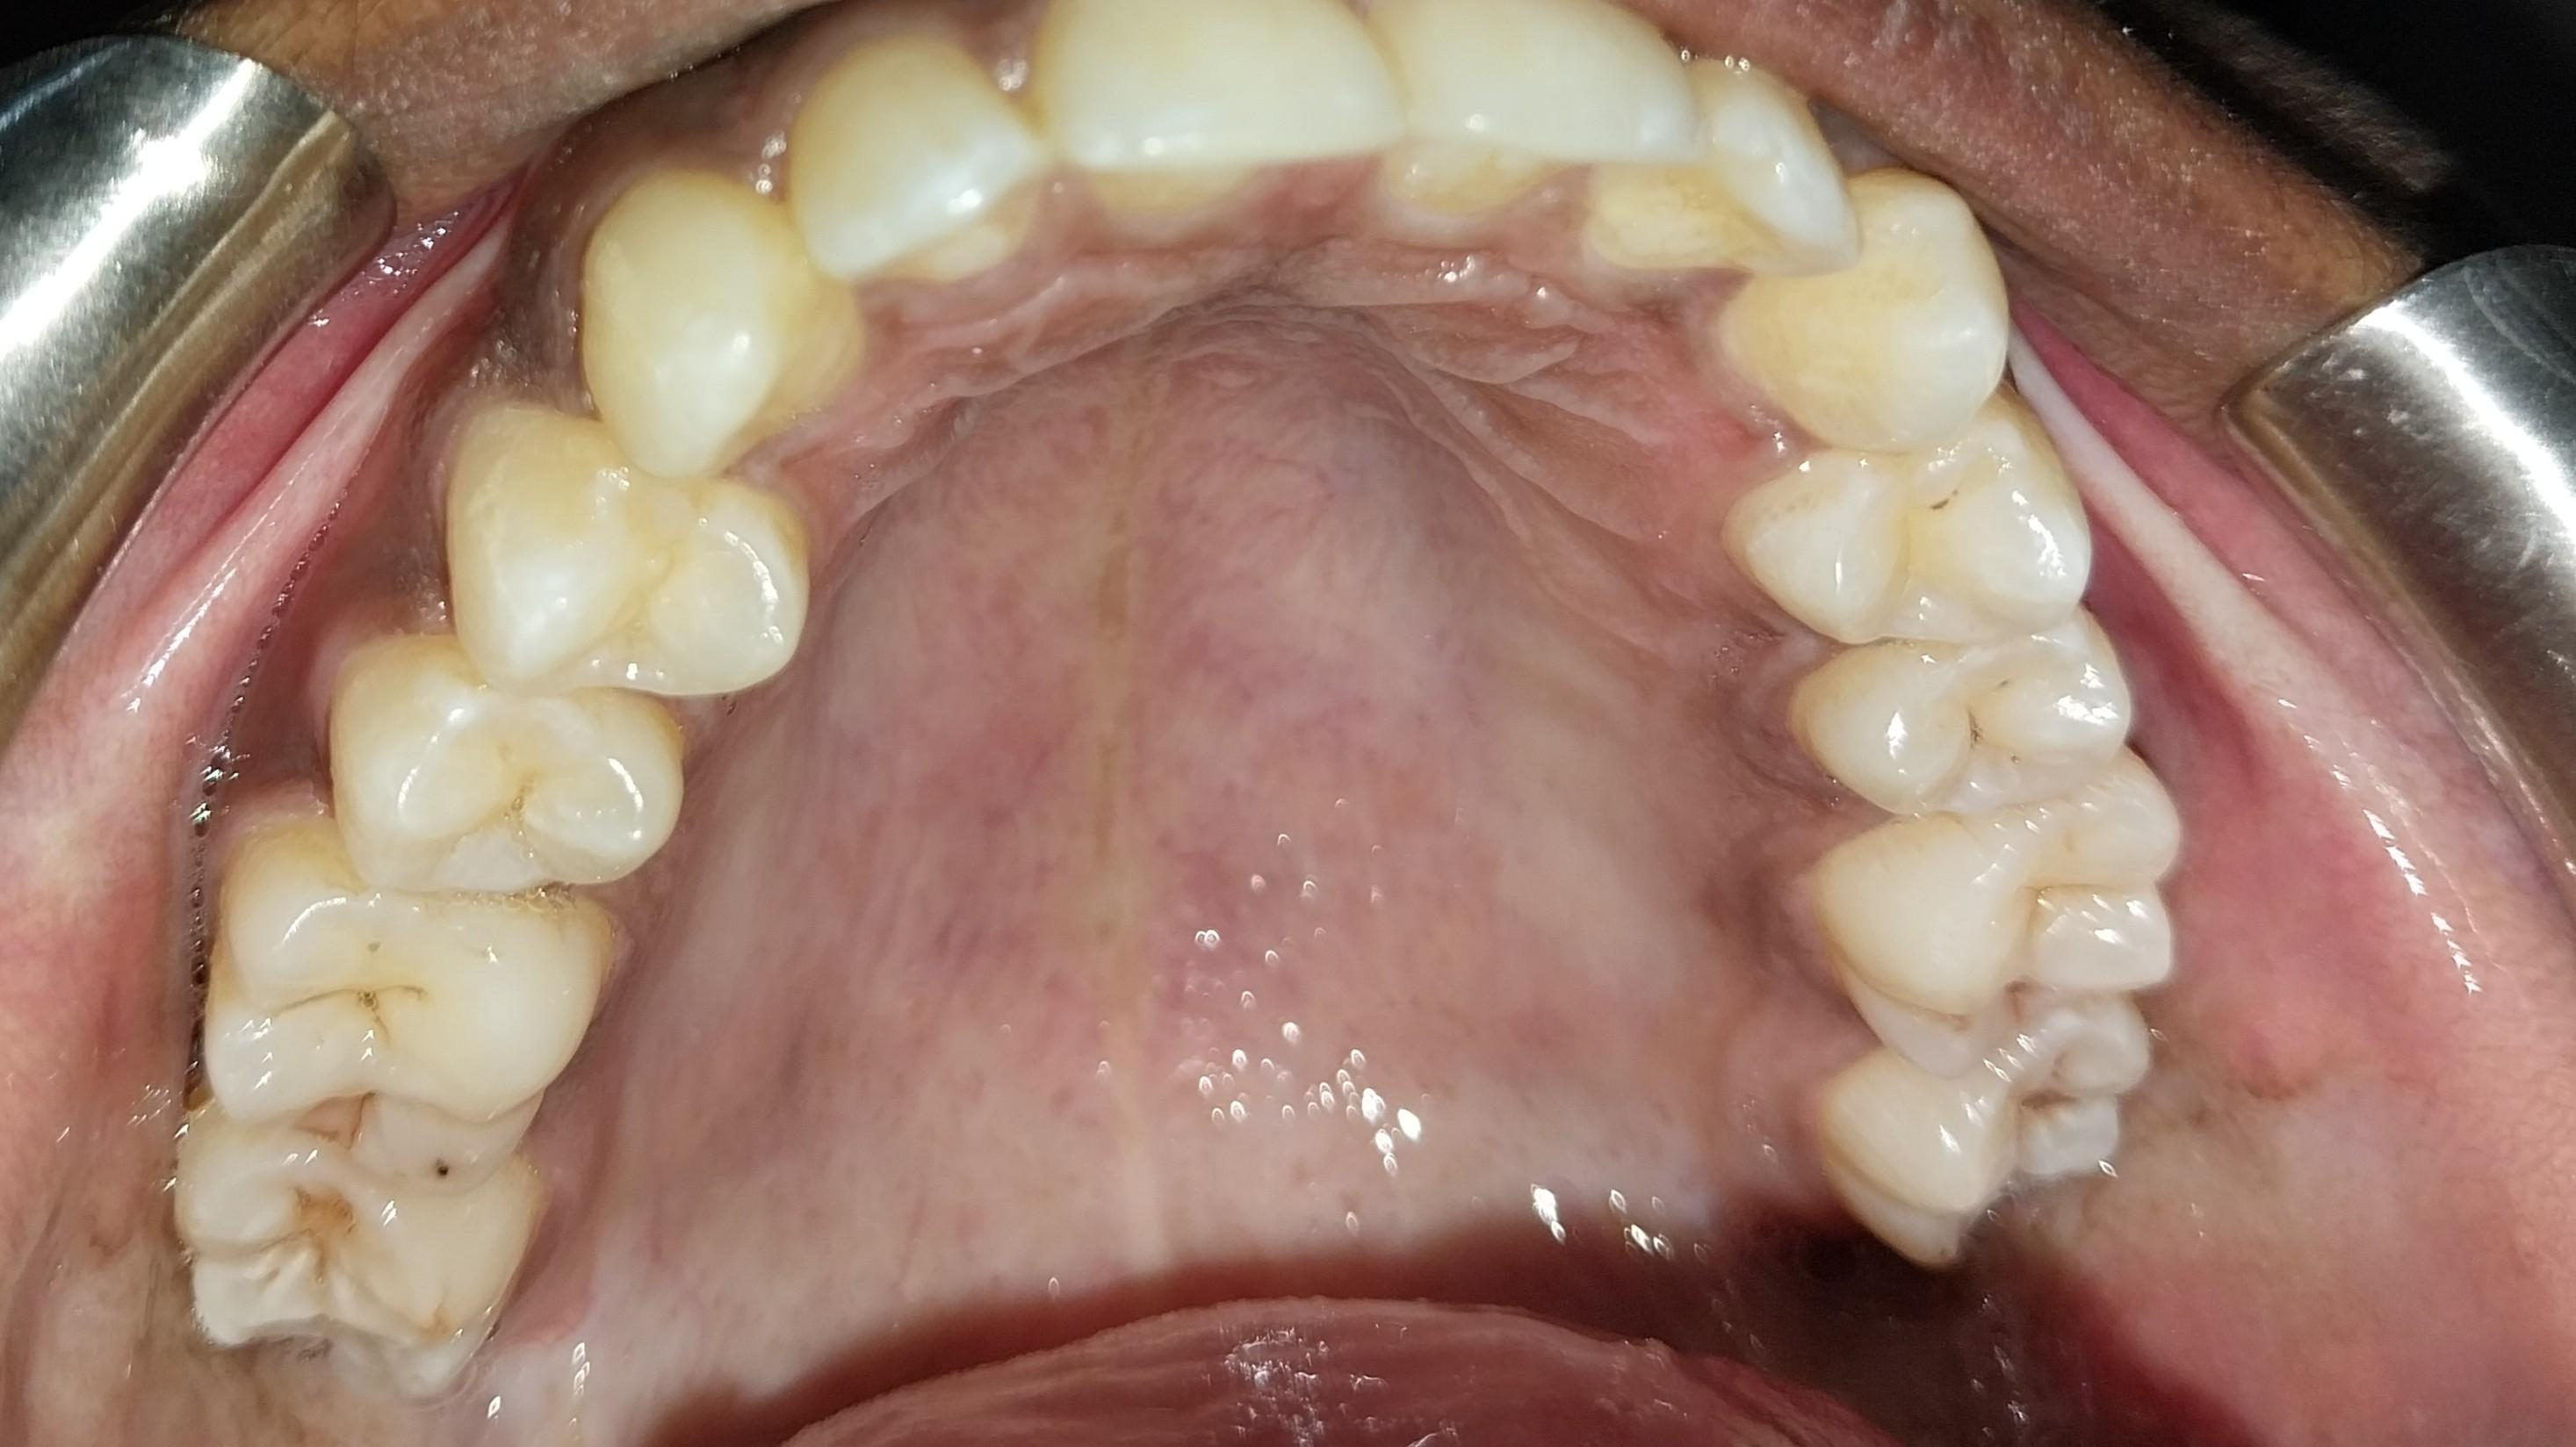D: (202, 838, 602, 1197), (1812, 764, 2168, 1062), (180, 1125, 541, 1404), (1836, 1002, 2154, 1267)
